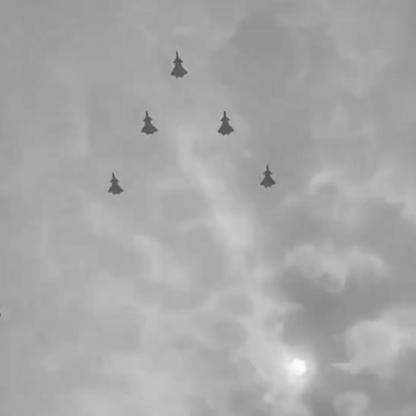J20: (172, 51, 190, 80), (141, 111, 160, 137), (260, 165, 278, 192), (218, 111, 236, 137), (108, 173, 126, 196)
